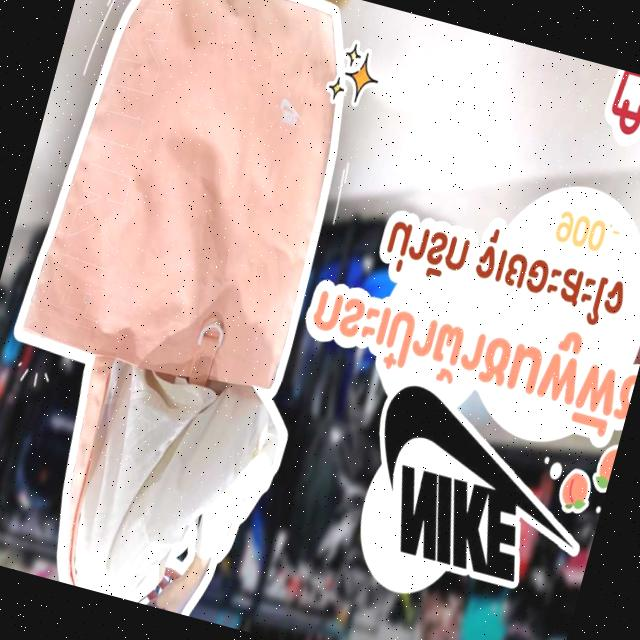Handbag: (0, 0, 400, 427)
